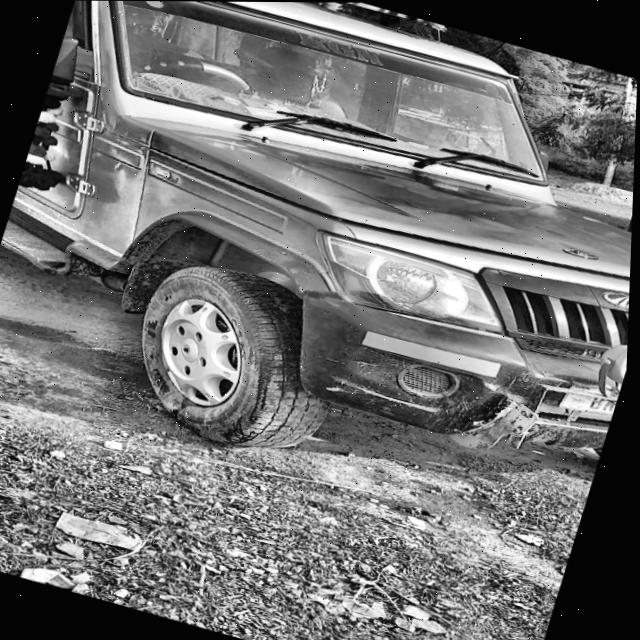light_vehicle: (0, 0, 640, 449)
